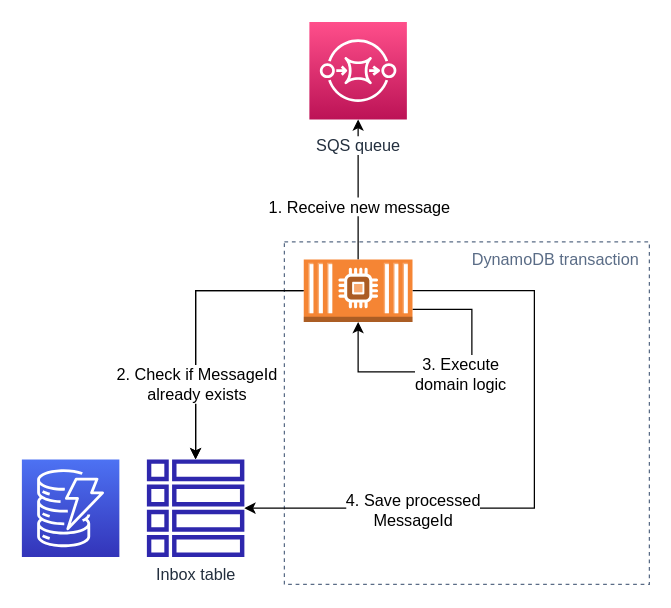
The diagram is 671 pixels wide and 608 high, and some of its shapes have lost their labels. Here are the shapes that lost their labels. From the top down, the centre of each, then its label:
the point at 357,290: Microservice
the point at 70,507: DynamoDB
